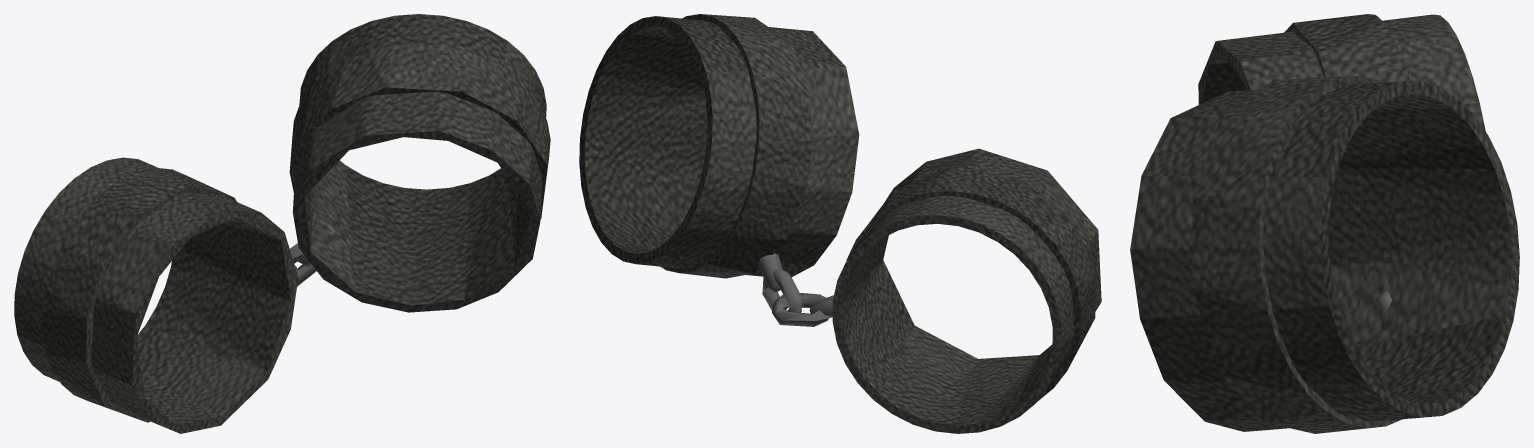
Rendered from frontleathercuffs.fbx.
3 renders of one model, left to right at view 1: azimuth 30°, elevation 25°; view 2: azimuth 150°, elevation 25°; view 3: azimuth 270°, elevation 25°, orthographic. The views are drawn at different scales.
Visible parts, largest first — view 1: Cuffs_ground; view 2: Cuffs_ground; view 3: Cuffs_ground.
Part boxes in pixels (box(x1,y1,x2,y2)): Cuffs_ground: box(14, 14, 550, 433); Cuffs_ground: box(579, 14, 1101, 433); Cuffs_ground: box(1130, 14, 1519, 433).
Bounding box in the file's own units: 0.1269 × 0.0763 × 0.0624.
